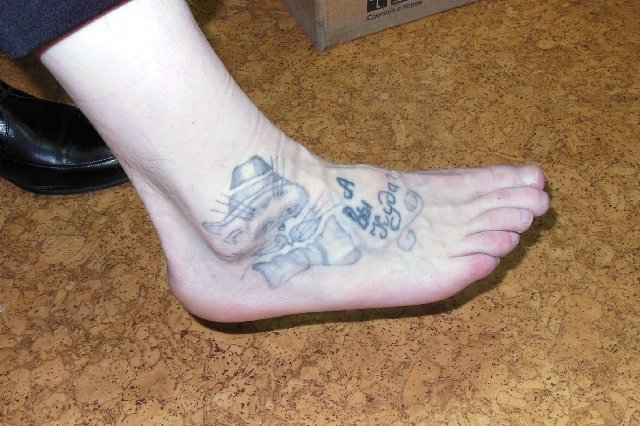tatu3_bukva: (337, 163, 427, 250)
tatu8_kot: (204, 159, 338, 269)
